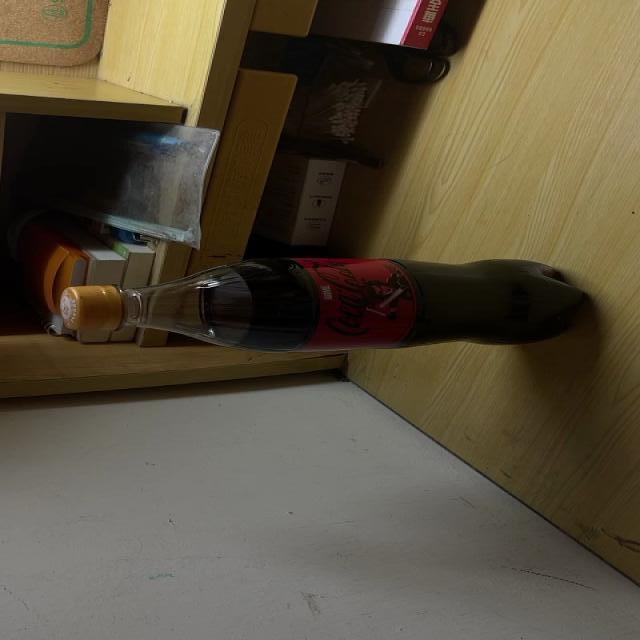Coca-Cola: (58, 257, 585, 353)
